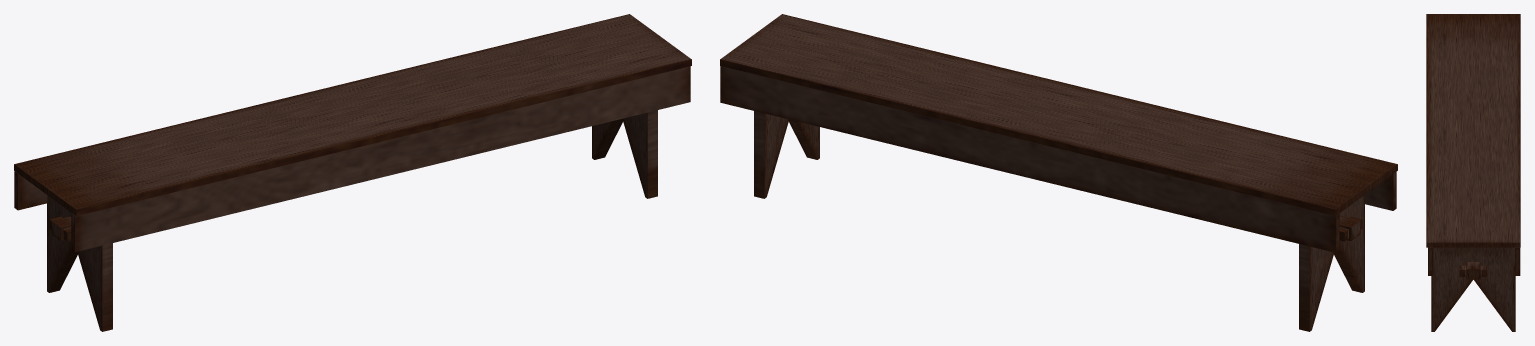
Rendered from Banco_Del_CENA.fbx.
The picture shows the model from 3 angles, left to right: view 1: azimuth 30°, elevation 25°; view 2: azimuth 150°, elevation 25°; view 3: azimuth 270°, elevation 25°; orthographic projection. The views are drawn at different scales.
Visible parts, largest first — view 1: Cube.009; view 2: Cube.009; view 3: Cube.009.
Part boxes in pixels (x1,y1,x2,y2): Cube.009: (14,14,691,331); Cube.009: (720,14,1397,331); Cube.009: (1426,14,1520,331).
Bounding box in the file's own units: 193 × 39.43 × 33.65.
Materials: 1 (1 with a texture image).
